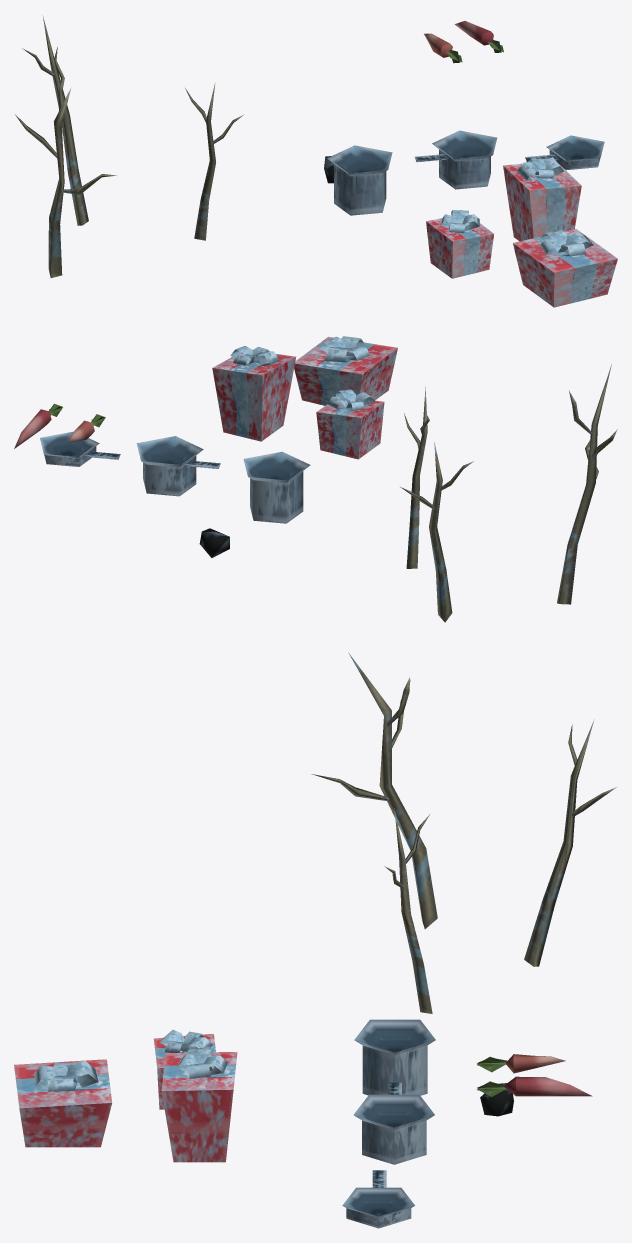
Rendered from SnowmanAddons01.FBX.
The picture shows the model from 3 angles, top to bottom: view 1: azimuth 30°, elevation 25°; view 2: azimuth 150°, elevation 25°; view 3: azimuth 270°, elevation 25°; orthographic projection. The views are drawn at different scales.
Visible parts, largest first — view 1: Giftbox003, Giftbox002, Giftbox001, Pot, Stewpan, Brushwood002, Brushwood001, Pan, Brushwood003, Carrot002, Carrot001; view 2: Giftbox002, Giftbox003, Giftbox001, Pot, Stewpan, Brushwood002, Brushwood001, Pan, Brushwood003, Carrot002, Coal001, Carrot001; view 3: Giftbox003, Giftbox002, Pot, Stewpan, Brushwood002, Brushwood001, Pan, Brushwood003, Carrot002, Giftbox001, Carrot001.
Part boxes in pixels (x1,y1,x2,y2): Giftbox003: [513, 229, 617, 307]; Giftbox002: [503, 157, 581, 241]; Giftbox001: [426, 210, 493, 278]; Pot: [327, 145, 392, 215]; Stewpan: [414, 130, 497, 189]; Brushwood002: [15, 76, 116, 277]; Brushwood001: [22, 15, 88, 225]; Pan: [525, 135, 604, 170]; Brushwood003: [185, 83, 244, 240]; Carrot002: [454, 21, 503, 52]; Carrot001: [424, 33, 462, 63]; Giftbox002: [212, 346, 295, 441]; Giftbox003: [294, 336, 397, 405]; Giftbox001: [316, 389, 384, 459]; Pot: [243, 451, 310, 523]; Stewpan: [136, 436, 220, 496]; Brushwood002: [557, 364, 617, 604]; Brushwood001: [400, 442, 473, 622]; Pan: [40, 431, 120, 466]; Brushwood003: [404, 386, 429, 568]; Carrot002: [14, 403, 62, 448]; Coal001: [199, 528, 229, 557]; Carrot001: [68, 414, 105, 442]; Giftbox003: [14, 1059, 112, 1147]; Giftbox002: [161, 1046, 237, 1162]; Pot: [354, 1019, 435, 1095]; Stewpan: [354, 1082, 434, 1164]; Brushwood002: [311, 652, 437, 928]; Brushwood001: [524, 719, 616, 966]; Pan: [342, 1170, 414, 1228]; Brushwood003: [384, 808, 432, 1013]; Carrot002: [477, 1076, 592, 1096]; Giftbox001: [153, 1029, 215, 1109]; Carrot001: [477, 1054, 565, 1073].
Size of the model in its own units: 776 by 577 by 283.
Materials: 3 (3 with a texture image).
